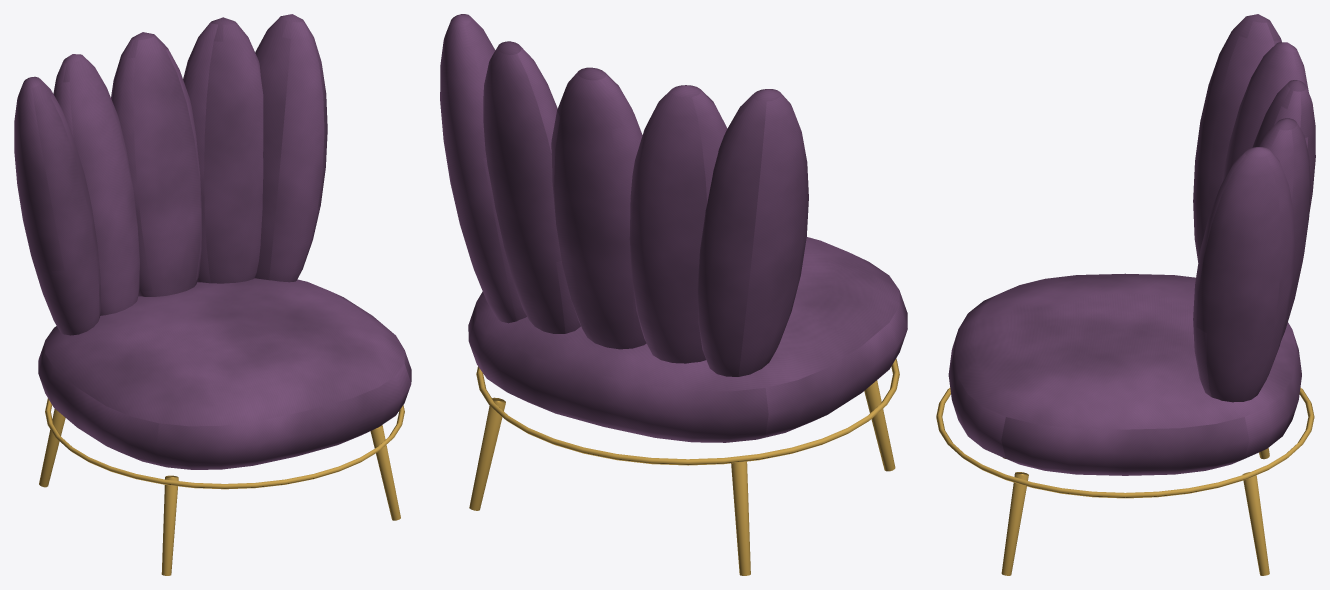
Rendered from scallop_chair.glb.
3 views of the same model, side by side, from view 1: azimuth 30°, elevation 25°; view 2: azimuth 150°, elevation 25°; view 3: azimuth 270°, elevation 25° (orthographic). The views are drawn at different scales.
Visible parts, largest first — view 1: model; view 2: model; view 3: model.
Boxes of the visible parts, bbox=[...] form: model: bbox=[14, 14, 411, 575]; model: bbox=[440, 14, 907, 575]; model: bbox=[936, 14, 1315, 575].
Bounding box in the file's own units: 0.732 × 0.9293 × 0.7345.
Materials: 2 (2 with a texture image).
